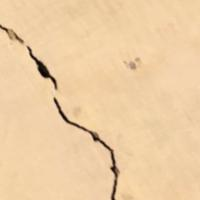crack: (0, 15, 134, 199)
